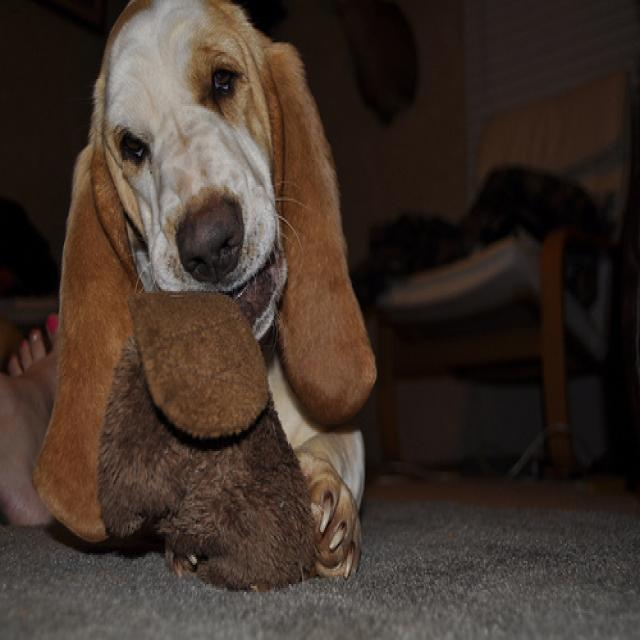dog-basset_hound: (28, 2, 393, 607)
